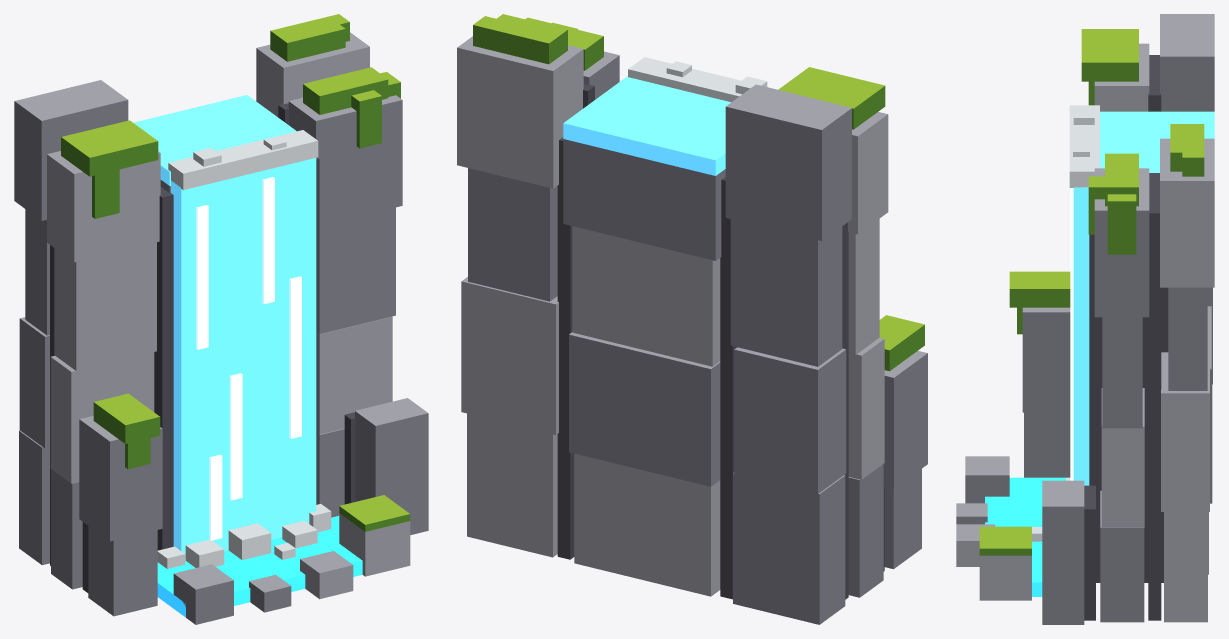
File: Lobby_Waterfall.glb
3 views of the same model, side by side, from view 1: azimuth 30°, elevation 25°; view 2: azimuth 150°, elevation 25°; view 3: azimuth 270°, elevation 25° (orthographic). The views are drawn at different scales.
Parts seen in each view (by area): view 1: Waterfall_stoneMid, Waterfall_water, Waterfall_stoneLight, Waterfall_moss, Waterfall_stoneDark, Waterfall_foam, Waterfall_waterLight, Waterfall_mossLime, Waterfall_pool; view 2: Waterfall_stoneMid, Waterfall_stoneLight, Waterfall_stoneDark, Waterfall_water, Waterfall_mossLime, Waterfall_moss, Waterfall_foam; view 3: Waterfall_stoneMid, Waterfall_stoneLight, Waterfall_stoneDark, Waterfall_water, Waterfall_mossLime, Waterfall_moss, Waterfall_pool, Waterfall_foam, Waterfall_waterLight.
Boxes of the visible parts, left/top/right/bottom form: Waterfall_stoneMid: left=14, top=100, right=428, bottom=624; Waterfall_water: left=133, top=95, right=316, bottom=560; Waterfall_stoneLight: left=15, top=32, right=428, bottom=599; Waterfall_moss: left=61, top=22, right=410, bottom=531; Waterfall_stoneDark: left=50, top=103, right=355, bottom=592; Waterfall_foam: left=157, top=130, right=331, bottom=568; Waterfall_waterLight: left=196, top=177, right=301, bottom=540; Waterfall_mossLime: left=61, top=14, right=409, bottom=524; Waterfall_pool: left=157, top=516, right=362, bottom=617; Waterfall_stoneMid: left=468, top=55, right=927, bottom=624; Waterfall_stoneLight: left=457, top=36, right=927, bottom=596; Waterfall_stoneDark: left=557, top=84, right=884, bottom=599; Waterfall_water: left=563, top=76, right=730, bottom=175; Waterfall_mossLime: left=473, top=14, right=924, bottom=350; Waterfall_moss: left=473, top=25, right=924, bottom=371; Waterfall_foam: left=628, top=57, right=775, bottom=102; Waterfall_stoneMid: left=956, top=56, right=1214, bottom=624; Waterfall_stoneLight: left=956, top=14, right=1214, bottom=622; Waterfall_stoneDark: left=1084, top=55, right=1168, bottom=620; Waterfall_water: left=1073, top=111, right=1214, bottom=485; Waterfall_mossLime: left=979, top=29, right=1204, bottom=548; Waterfall_moss: left=979, top=62, right=1204, bottom=555; Waterfall_pool: left=985, top=477, right=1065, bottom=596; Waterfall_foam: left=1032, top=105, right=1099, bottom=541; Waterfall_waterLight: left=1070, top=188, right=1073, bottom=480.
Size of the model in its own units: 2.96 by 3.91 by 1.98.
